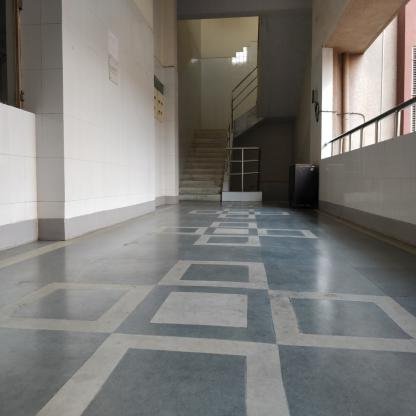stairs: (189, 151, 222, 205)
